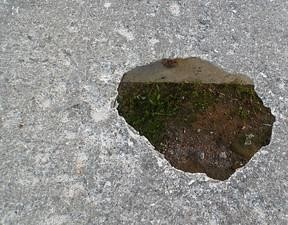Spalling: (115, 56, 277, 182)
